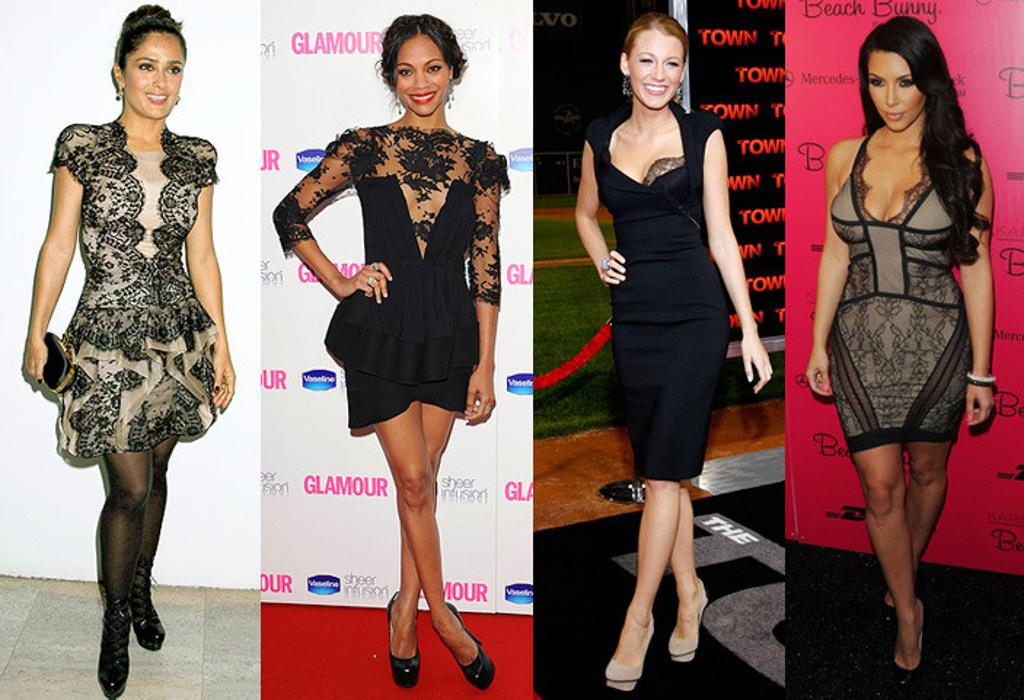face: (122, 26, 184, 116), (870, 42, 926, 130), (396, 32, 452, 114), (628, 30, 684, 108)
